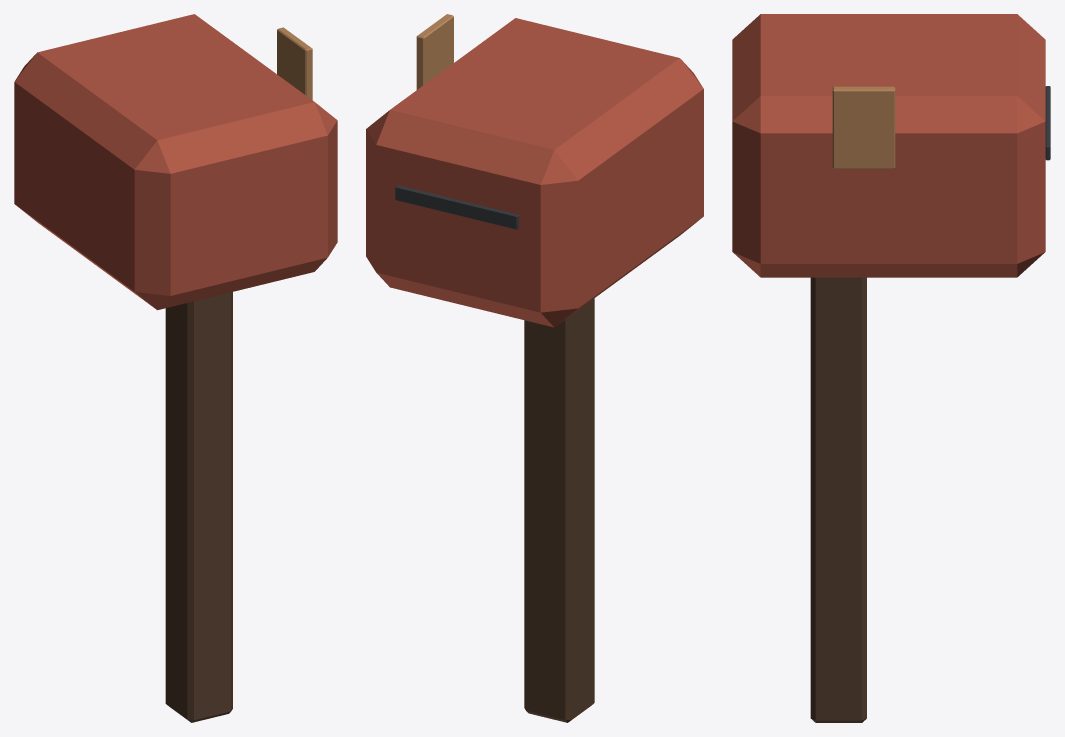
The model's file is mailbox.glb.
The picture shows the model from 3 angles, left to right: view 1: azimuth 30°, elevation 25°; view 2: azimuth 150°, elevation 25°; view 3: azimuth 270°, elevation 25°; orthographic projection. The views are drawn at different scales.
Visible parts, largest first — view 1: Alfa_mailbox; view 2: Alfa_mailbox; view 3: Alfa_mailbox.
Part boxes in pixels (x1,y1,x2,y2): Alfa_mailbox: (14,14,337,722); Alfa_mailbox: (366,14,703,722); Alfa_mailbox: (732,14,1050,722).
Bounding box in the file's own units: 0.4185 × 1.2 × 0.508.
